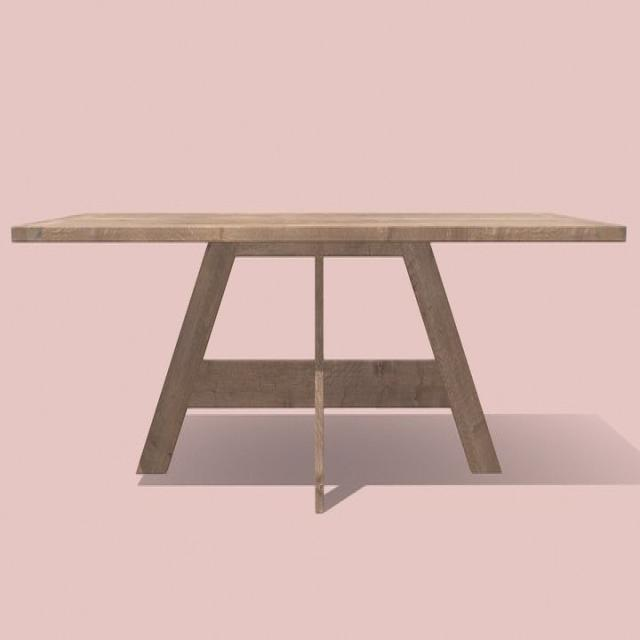table: (13, 212, 626, 513)
